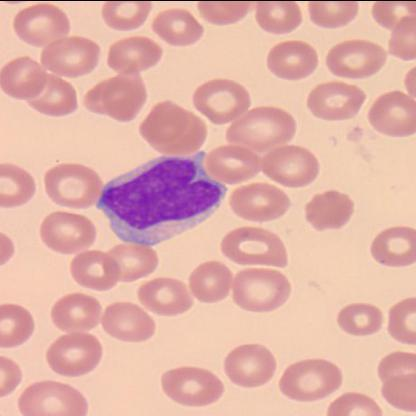Promyelocyte: (97, 150, 227, 246)
